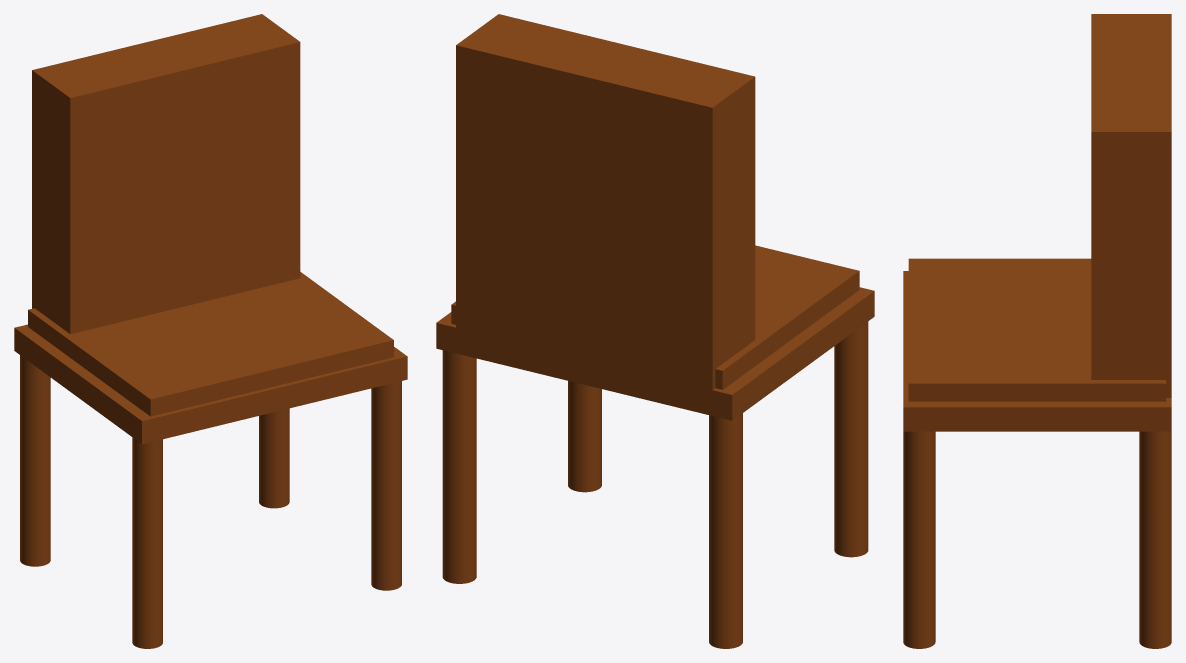
3 renders of one model, left to right at view 1: azimuth 30°, elevation 25°; view 2: azimuth 150°, elevation 25°; view 3: azimuth 270°, elevation 25°, orthographic. The views are drawn at different scales.
Visible parts, largest first — view 1: backrest, seat, base_frame, leg_1, leg_2, leg_3, leg_4; view 2: backrest, base_frame, seat, leg_4, leg_3, leg_1, leg_2; view 3: backrest, seat, base_frame, leg_2, leg_4.
Boxes of the visible parts, left/top/right/bottom form: backrest: left=32, top=14, right=300, bottom=334; seat: left=28, top=272, right=393, bottom=416; base_frame: left=14, top=324, right=407, bottom=444; leg_1: left=132, top=437, right=162, bottom=648; leg_2: left=371, top=381, right=401, bottom=590; leg_3: left=20, top=355, right=50, bottom=566; leg_4: left=259, top=408, right=289, bottom=508; backrest: left=456, top=14, right=755, bottom=391; base_frame: left=436, top=287, right=874, bottom=420; seat: left=451, top=245, right=859, bottom=389; leg_4: left=442, top=350, right=476, bottom=583; leg_3: left=709, top=413, right=742, bottom=648; leg_1: left=834, top=321, right=868, bottom=557; leg_2: left=568, top=381, right=601, bottom=492; backrest: left=1091, top=14, right=1171, bottom=397; seat: left=908, top=258, right=1166, bottom=401; base_frame: left=903, top=271, right=1171, bottom=431; leg_2: left=903, top=431, right=935, bottom=648; leg_4: left=1139, top=431, right=1171, bottom=648.
Size of the model in its own units: 0.6 by 1.04 by 0.5.
